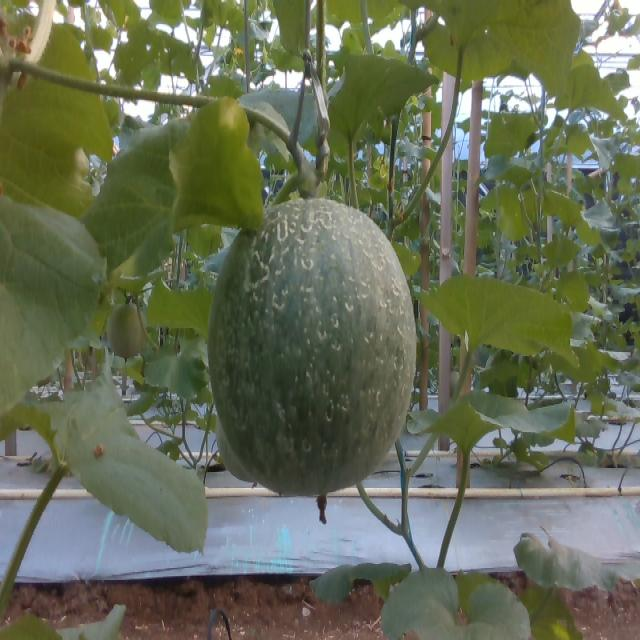melon: (208, 199, 417, 523)
